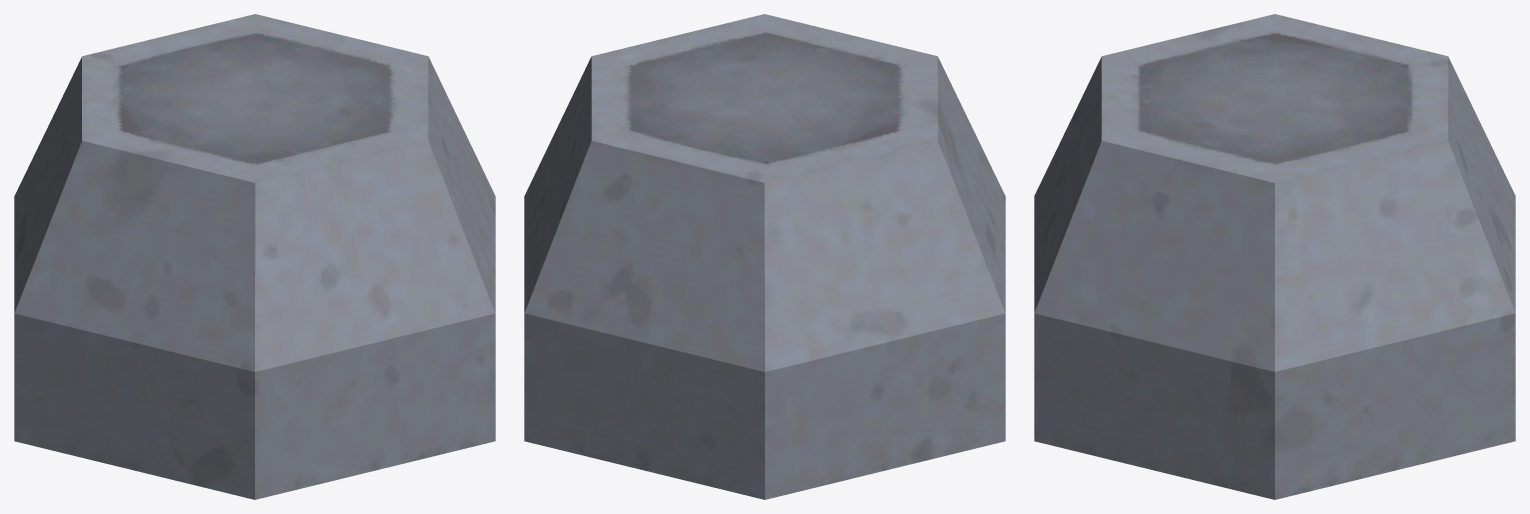
The model's file is RoadColumnSegment.gltf.
3 renders of one model, left to right at view 1: azimuth 30°, elevation 25°; view 2: azimuth 150°, elevation 25°; view 3: azimuth 270°, elevation 25°, orthographic.
Visible parts, largest first — view 1: RoadColumnSegment; view 2: RoadColumnSegment; view 3: RoadColumnSegment.
Boxes of the visible parts, <box> form: RoadColumnSegment: <box>14,14,495,499</box>; RoadColumnSegment: <box>524,14,1005,499</box>; RoadColumnSegment: <box>1034,14,1515,499</box>.
Size of the model in its own units: 3.34 by 1.88 by 2.89.
Materials: 1 (1 with a texture image).
